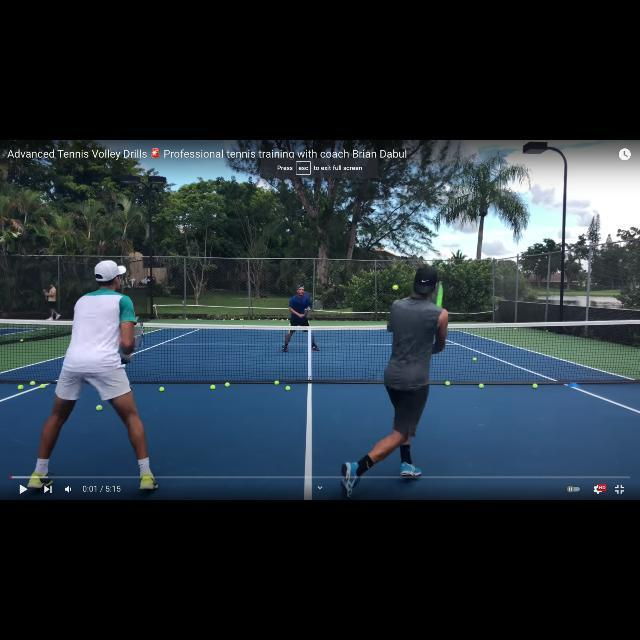tennis-ball: (96, 405, 102, 411), (532, 384, 538, 389), (479, 384, 484, 389), (210, 385, 215, 390), (285, 386, 290, 391), (159, 387, 164, 392), (30, 381, 35, 385), (225, 382, 230, 386), (40, 384, 45, 388), (18, 385, 22, 390), (274, 380, 278, 384), (445, 381, 449, 385)
